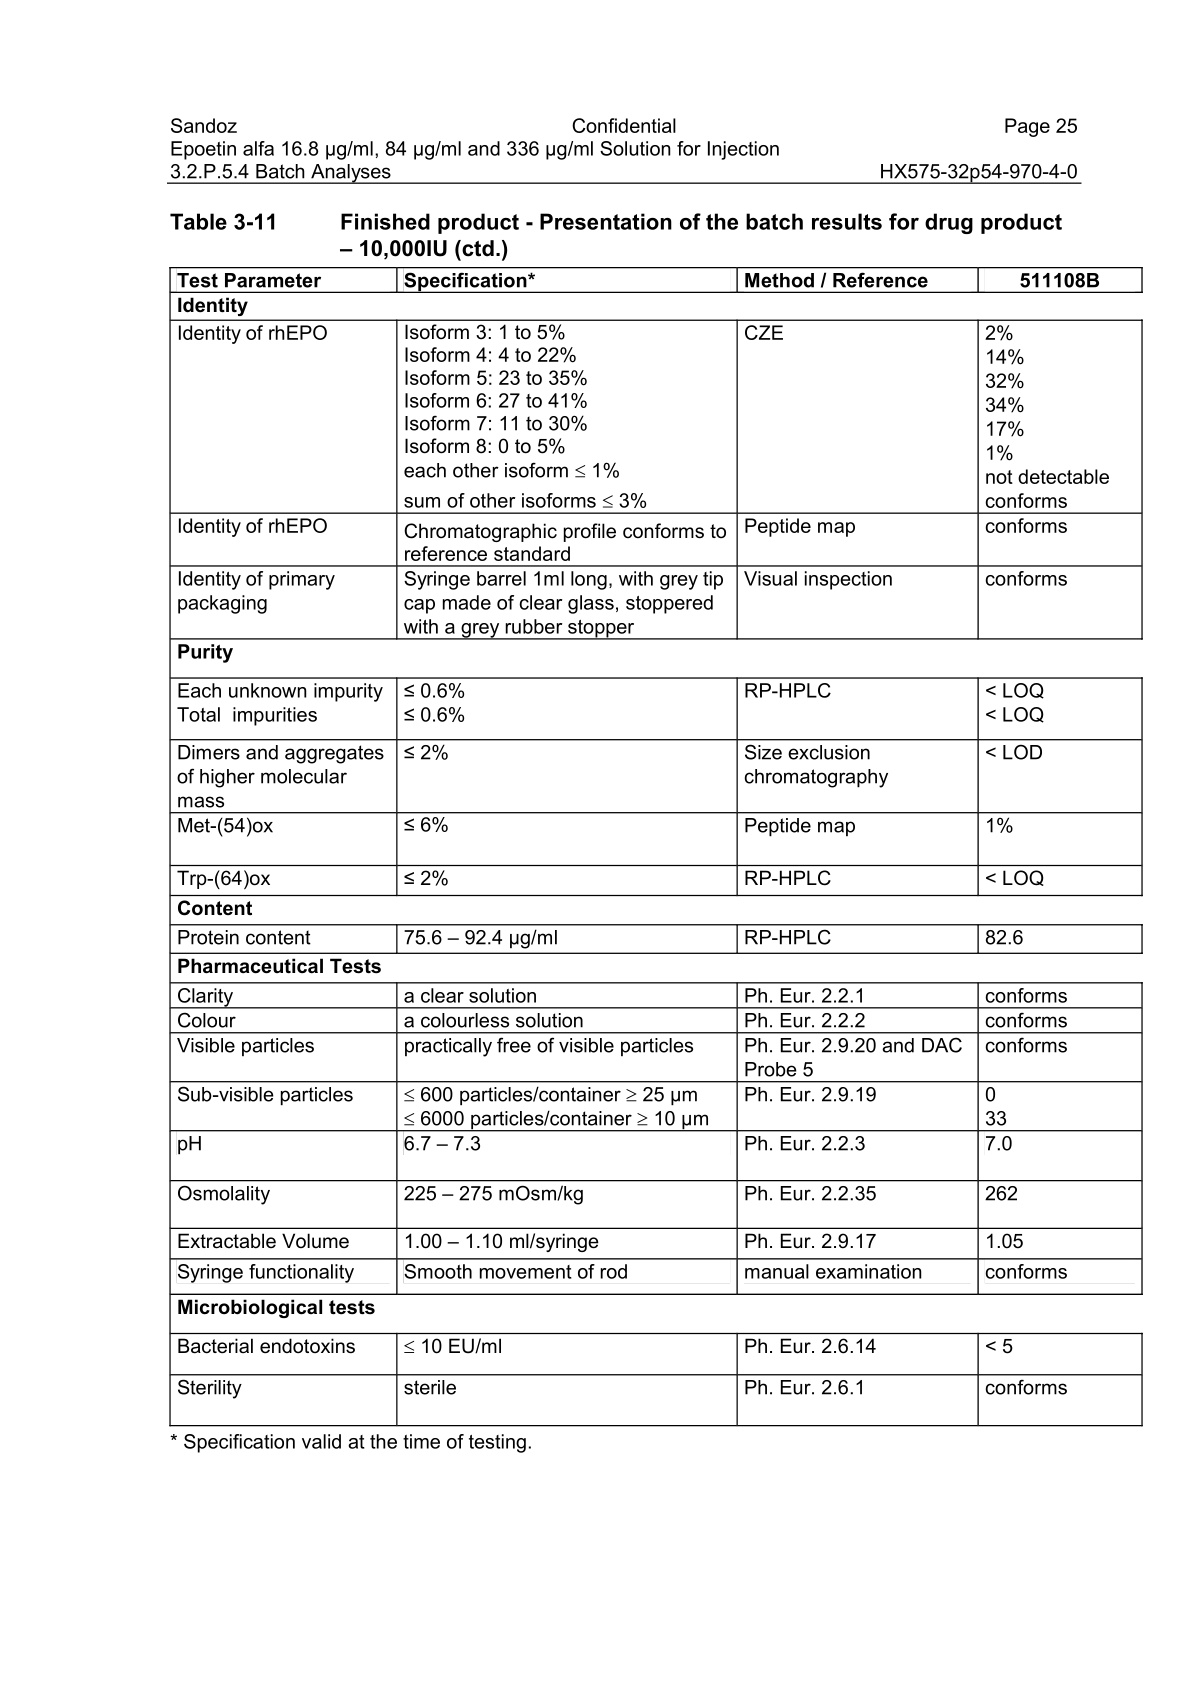merged_cells: (168, 265, 1145, 1428)
